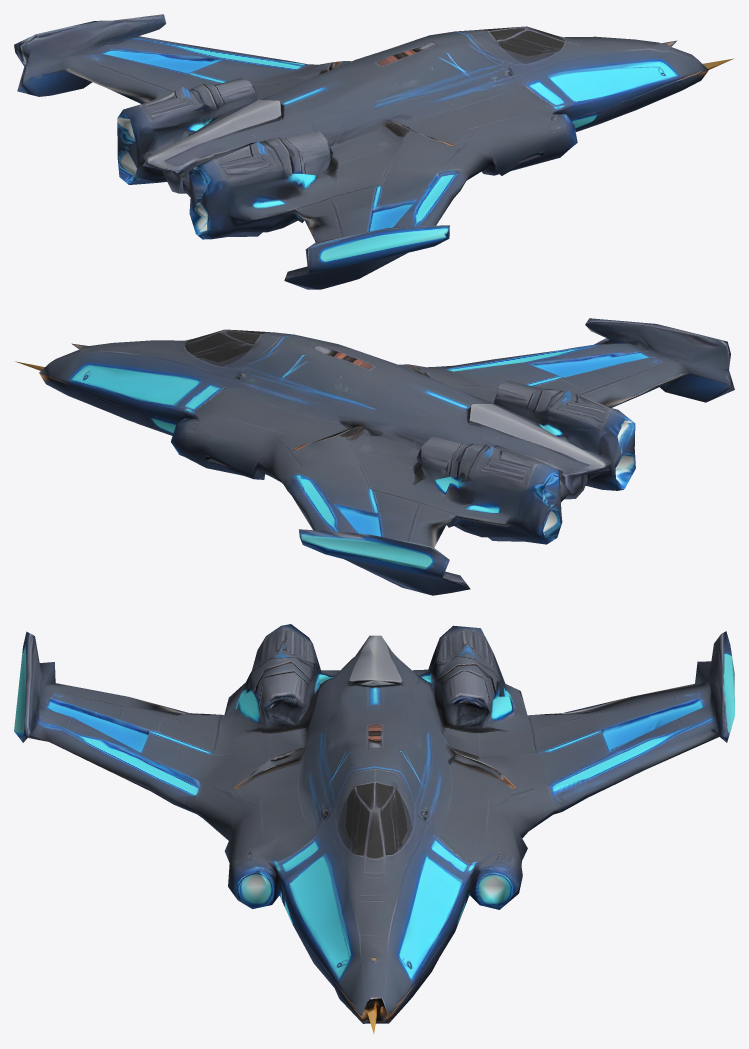
File: blue_ship.glb
3 views of the same model, one above another, from view 1: azimuth 30°, elevation 25°; view 2: azimuth 150°, elevation 25°; view 3: azimuth 270°, elevation 25° (orthographic). The views are drawn at different scales.
Visible parts, largest first — view 1: tripo_node_a1c6d15d-44aa-4f57-963e-2480a2d852e6; view 2: tripo_node_a1c6d15d-44aa-4f57-963e-2480a2d852e6; view 3: tripo_node_a1c6d15d-44aa-4f57-963e-2480a2d852e6.
Boxes of the visible parts, x1=… form: tripo_node_a1c6d15d-44aa-4f57-963e-2480a2d852e6: x1=14, y1=14, x2=733, y2=289; tripo_node_a1c6d15d-44aa-4f57-963e-2480a2d852e6: x1=15, y1=318, x2=734, y2=595; tripo_node_a1c6d15d-44aa-4f57-963e-2480a2d852e6: x1=14, y1=624, x2=734, y2=1033.
Bounding box in the file's own units: 1 × 0.1849 × 0.8627.
Materials: 1 (1 with a texture image).
